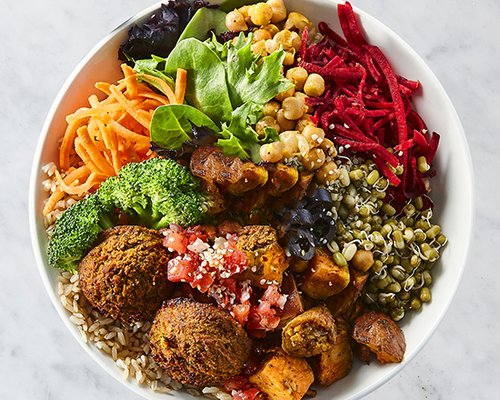curry: (44, 157, 209, 275), (92, 157, 209, 230)
sushi: (16, 0, 475, 399)
